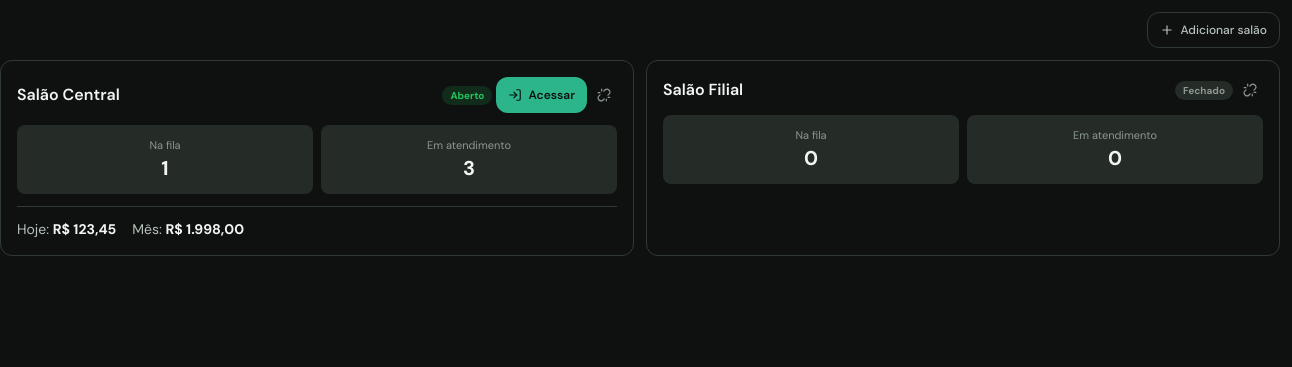
it: MultiUnitDashboard › mostra a mensagem amigável do backend quando o anexo falha (409)
This screenshot has width=1292, height=367.
Click the button "Adicionar salão".
click(1214, 30)  # box 1147,12 -> 1280,48
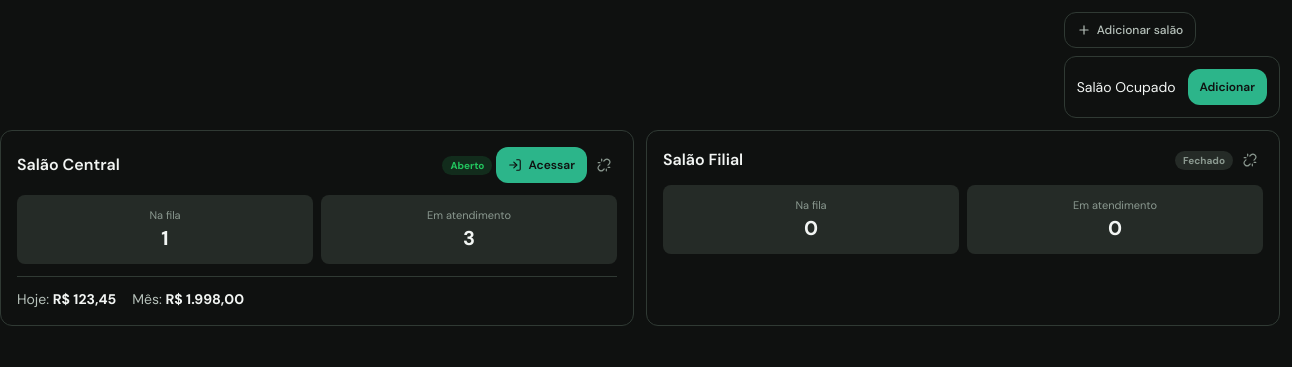
Click the button "Adicionar".
click(1227, 87)  # box 1188,69 -> 1267,105
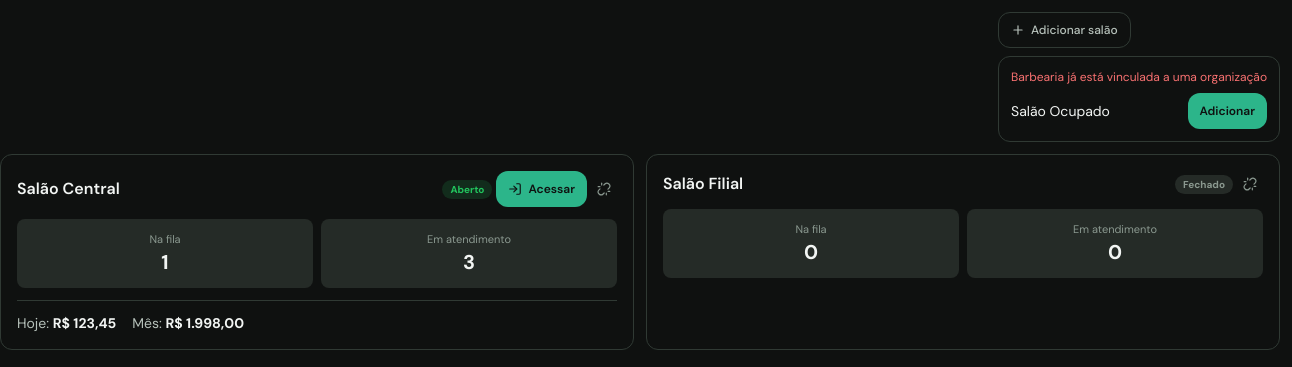
Result: the message reads "Barbearia já está vinculada a uma organização" at 1011,69 -> 1267,85
